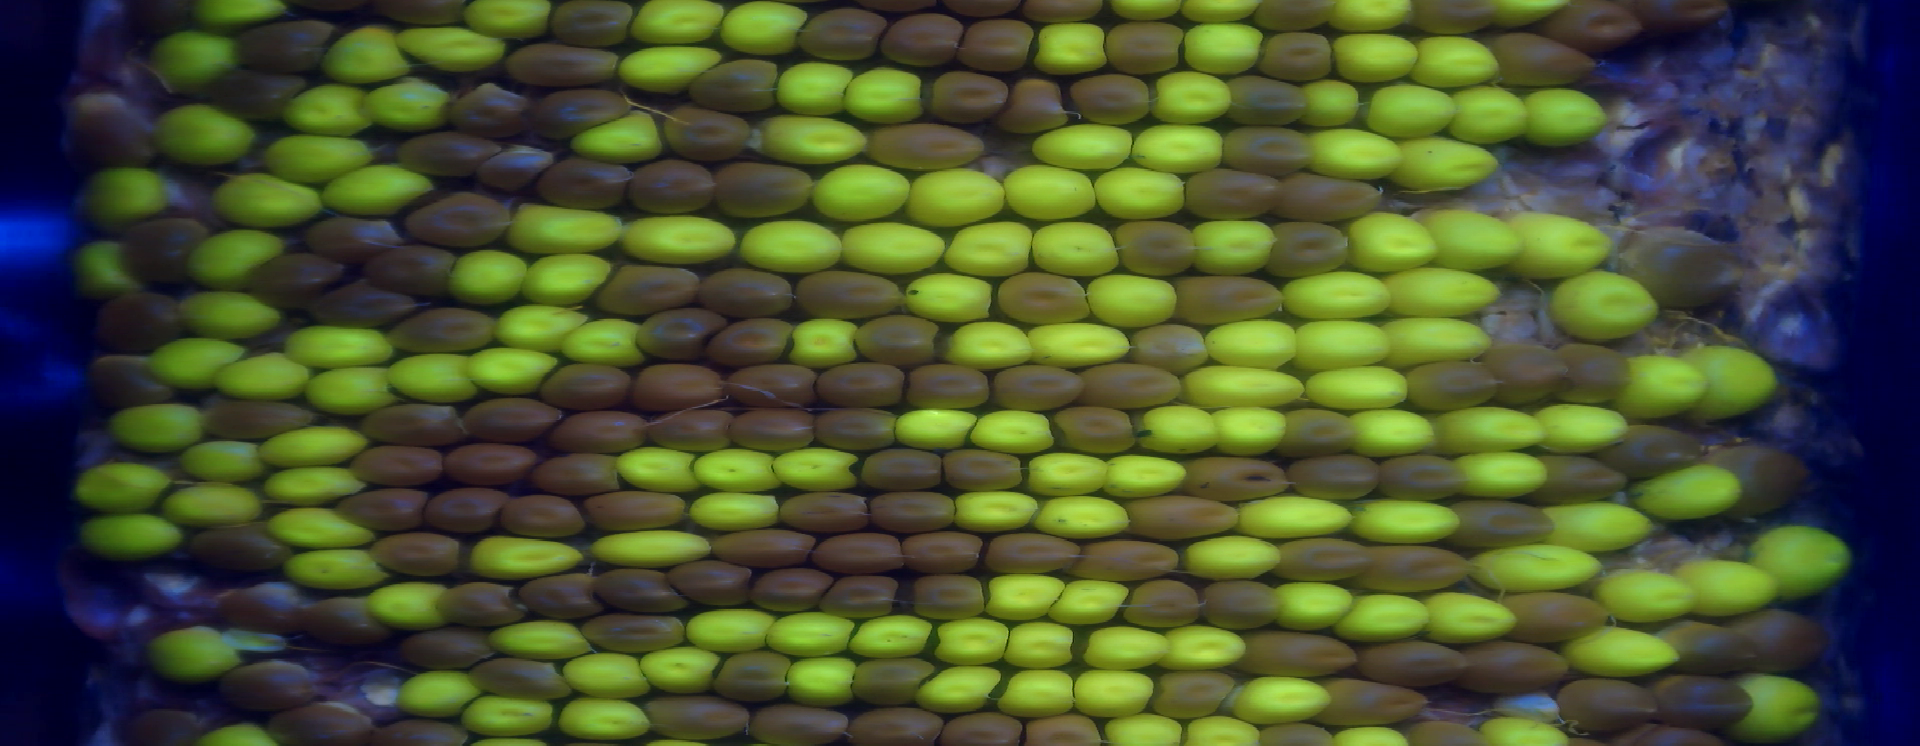fluorescent: (1543, 268, 1659, 337), (1751, 526, 1855, 601), (208, 164, 334, 227), (1629, 461, 1758, 521), (1679, 344, 1780, 420), (1505, 209, 1613, 277), (1340, 495, 1468, 550), (149, 100, 256, 167), (185, 220, 284, 292), (327, 153, 437, 217), (1733, 670, 1820, 746), (1565, 626, 1684, 681), (1673, 559, 1782, 619), (471, 529, 584, 587), (1179, 361, 1308, 412), (835, 219, 949, 276), (736, 214, 847, 272), (902, 165, 1011, 224), (1422, 211, 1522, 274), (1390, 137, 1500, 195), (507, 201, 629, 252), (262, 126, 373, 183), (1468, 546, 1607, 592), (1344, 205, 1435, 273), (760, 111, 871, 168), (1298, 364, 1418, 415), (140, 627, 249, 684), (947, 217, 1042, 281), (1522, 85, 1614, 151), (1378, 265, 1501, 314), (622, 214, 742, 265), (1619, 352, 1708, 419), (1280, 271, 1393, 323), (618, 42, 729, 96), (158, 478, 273, 529), (396, 23, 513, 73), (811, 163, 911, 222), (899, 265, 999, 323), (75, 164, 165, 229), (1600, 568, 1700, 627), (1433, 405, 1551, 454), (1305, 127, 1404, 185), (66, 510, 193, 554), (1382, 314, 1489, 366), (1422, 587, 1518, 644), (1536, 503, 1652, 551), (212, 345, 312, 401), (1002, 164, 1100, 220), (1029, 220, 1127, 277), (1412, 31, 1509, 87), (1363, 82, 1460, 138), (571, 107, 665, 164), (1030, 121, 1138, 171), (1324, 27, 1422, 82), (1237, 496, 1356, 541), (171, 289, 287, 336), (1231, 673, 1335, 724), (1086, 272, 1183, 327), (271, 503, 382, 551), (1095, 167, 1193, 220), (1022, 320, 1133, 367), (1452, 447, 1551, 500), (1130, 122, 1224, 178), (1449, 81, 1527, 147), (272, 81, 370, 134), (451, 247, 531, 311), (522, 250, 611, 307), (69, 465, 185, 510), (1536, 399, 1636, 450), (1296, 318, 1393, 370), (721, 1, 811, 58), (1190, 220, 1283, 274), (151, 338, 247, 390), (384, 354, 489, 402), (1135, 403, 1223, 459), (302, 364, 397, 416), (555, 314, 647, 367), (922, 657, 1003, 718), (1100, 448, 1193, 501), (775, 58, 858, 116), (1344, 405, 1439, 457), (847, 64, 923, 127), (365, 75, 451, 131), (1200, 318, 1298, 367), (1033, 494, 1134, 541), (763, 605, 858, 655), (288, 544, 388, 592), (550, 695, 653, 741), (616, 445, 707, 497), (487, 617, 595, 661), (640, 643, 729, 697), (252, 428, 377, 465), (326, 27, 411, 82), (108, 404, 206, 452), (684, 604, 785, 650), (561, 649, 651, 701), (1180, 22, 1265, 77), (456, 691, 561, 735), (62, 238, 142, 295), (770, 443, 861, 494), (392, 669, 491, 714), (1342, 593, 1431, 643), (498, 301, 588, 352), (629, 1, 731, 45), (1271, 581, 1356, 633), (782, 657, 860, 714), (1187, 534, 1284, 579), (156, 38, 246, 87), (950, 488, 1044, 534), (1209, 405, 1288, 461), (1152, 70, 1236, 122), (591, 530, 722, 563), (978, 571, 1060, 624), (890, 403, 978, 452), (284, 327, 391, 367), (689, 448, 789, 491), (1048, 576, 1133, 626), (972, 404, 1057, 454), (684, 488, 782, 530), (264, 467, 377, 503), (1082, 625, 1173, 670), (1073, 668, 1156, 717), (1036, 21, 1116, 71), (179, 436, 267, 481), (457, 1, 558, 40), (470, 347, 560, 391), (369, 583, 456, 628), (849, 615, 937, 658), (1161, 627, 1244, 673), (1025, 450, 1108, 494), (948, 323, 1031, 367), (932, 617, 1011, 661), (1005, 621, 1078, 668), (1000, 671, 1078, 714), (180, 1, 294, 29), (1296, 78, 1360, 127), (1476, 713, 1569, 746), (792, 317, 858, 364), (1494, 1, 1575, 38), (1322, 1, 1416, 31), (196, 714, 277, 746), (1189, 714, 1264, 746), (1104, 717, 1182, 746), (1332, 724, 1416, 746), (1180, 1, 1262, 21), (1108, 1, 1179, 20)
nonfluorescent: (1630, 227, 1753, 318), (62, 86, 160, 168), (1706, 446, 1812, 514), (1311, 673, 1435, 728), (1734, 609, 1832, 677), (1358, 540, 1472, 598), (1649, 669, 1760, 728), (120, 216, 219, 281), (1171, 271, 1287, 326), (711, 160, 820, 219), (1548, 676, 1663, 731), (1234, 627, 1359, 677), (793, 2, 891, 66), (1540, 2, 1653, 56), (309, 274, 421, 328), (1453, 643, 1569, 696), (1182, 453, 1291, 508), (1356, 636, 1473, 686), (871, 122, 988, 173), (1491, 31, 1600, 85), (598, 262, 702, 318), (1397, 363, 1505, 416), (1483, 341, 1570, 407), (1180, 168, 1292, 219), (1598, 420, 1697, 478), (223, 573, 313, 636), (1079, 534, 1183, 588), (1284, 168, 1386, 223), (534, 152, 631, 209), (1496, 592, 1613, 639), (1643, 616, 1749, 669), (405, 196, 516, 246), (77, 352, 178, 407), (252, 252, 340, 315), (503, 39, 624, 85), (992, 269, 1093, 323), (686, 56, 782, 113), (1123, 492, 1243, 538), (93, 292, 193, 345), (629, 154, 718, 216), (1556, 338, 1633, 408), (694, 268, 798, 320), (1223, 124, 1322, 178), (1147, 669, 1247, 723), (638, 692, 752, 739), (1273, 535, 1378, 586), (1284, 451, 1384, 503), (1449, 499, 1558, 546), (1374, 448, 1468, 503), (1074, 361, 1185, 408), (928, 69, 1013, 130), (980, 530, 1082, 581), (393, 306, 493, 358), (588, 570, 693, 619), (633, 363, 738, 412), (876, 13, 969, 69), (802, 269, 909, 317), (1109, 219, 1198, 277), (1267, 219, 1352, 279), (1067, 73, 1162, 126), (242, 22, 336, 76), (989, 73, 1073, 134), (533, 88, 629, 140), (218, 654, 315, 706), (986, 363, 1090, 410), (340, 440, 444, 488), (636, 307, 725, 363), (864, 488, 970, 534), (208, 401, 324, 442), (659, 107, 748, 160), (511, 573, 609, 622), (193, 528, 296, 575), (539, 361, 638, 409), (524, 452, 626, 499), (463, 399, 569, 443), (852, 318, 948, 367), (647, 408, 740, 458), (473, 657, 576, 702), (362, 405, 468, 450), (1056, 405, 1141, 459), (269, 703, 377, 746), (708, 315, 797, 366), (438, 582, 536, 628), (364, 243, 457, 292), (1103, 24, 1188, 78), (744, 562, 833, 614), (549, 1, 634, 54), (722, 366, 822, 412), (309, 217, 404, 263), (549, 408, 647, 453), (842, 703, 948, 745), (1536, 451, 1622, 501), (823, 570, 904, 624), (851, 659, 936, 710), (336, 486, 429, 533), (301, 597, 392, 644), (369, 530, 459, 578), (214, 69, 302, 118), (747, 704, 853, 745), (579, 612, 688, 652), (1222, 75, 1309, 124), (443, 443, 542, 486), (958, 16, 1033, 71), (912, 573, 996, 624), (1271, 409, 1360, 456), (808, 533, 913, 572), (912, 363, 994, 413), (665, 562, 756, 608), (782, 492, 876, 537), (820, 366, 913, 410), (1258, 33, 1338, 83), (424, 488, 504, 538), (900, 530, 988, 576), (718, 654, 798, 703), (939, 448, 1029, 492), (1134, 327, 1216, 375), (579, 492, 689, 528), (501, 490, 580, 539), (1129, 579, 1201, 633), (400, 129, 489, 173), (816, 405, 902, 450), (729, 408, 818, 451), (1408, 1, 1507, 39), (718, 532, 820, 567), (858, 450, 949, 489), (404, 628, 493, 668), (118, 706, 203, 746), (129, 1, 206, 44), (1644, 1, 1728, 40), (454, 88, 531, 130), (933, 714, 1030, 746), (1024, 714, 1114, 746), (371, 1, 473, 29), (482, 145, 549, 187), (1253, 1, 1335, 34), (372, 718, 463, 746), (1022, 1, 1106, 26), (1408, 720, 1487, 746), (1259, 722, 1337, 746), (1631, 728, 1730, 746)
